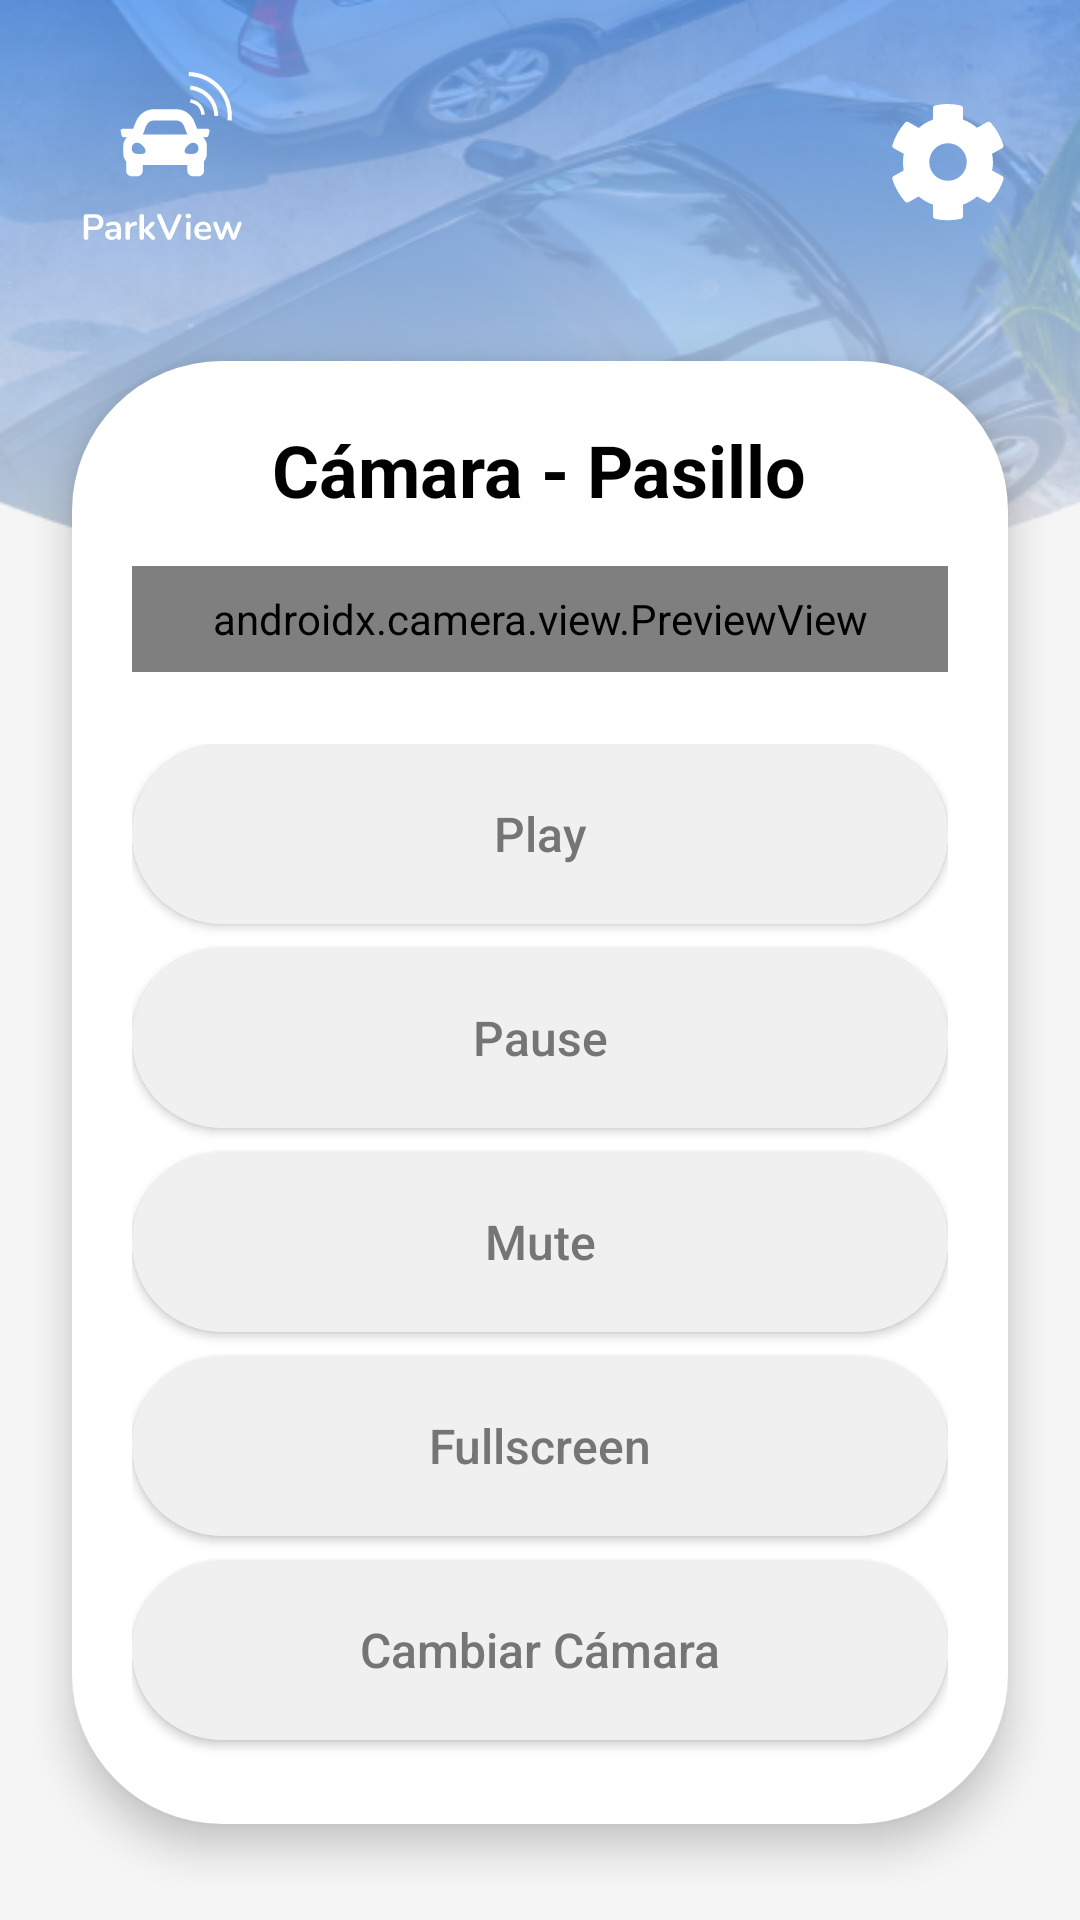

Where to tap for icons on this 1080x1920 app screen, as point (x, y):
settings: point (946, 162)
